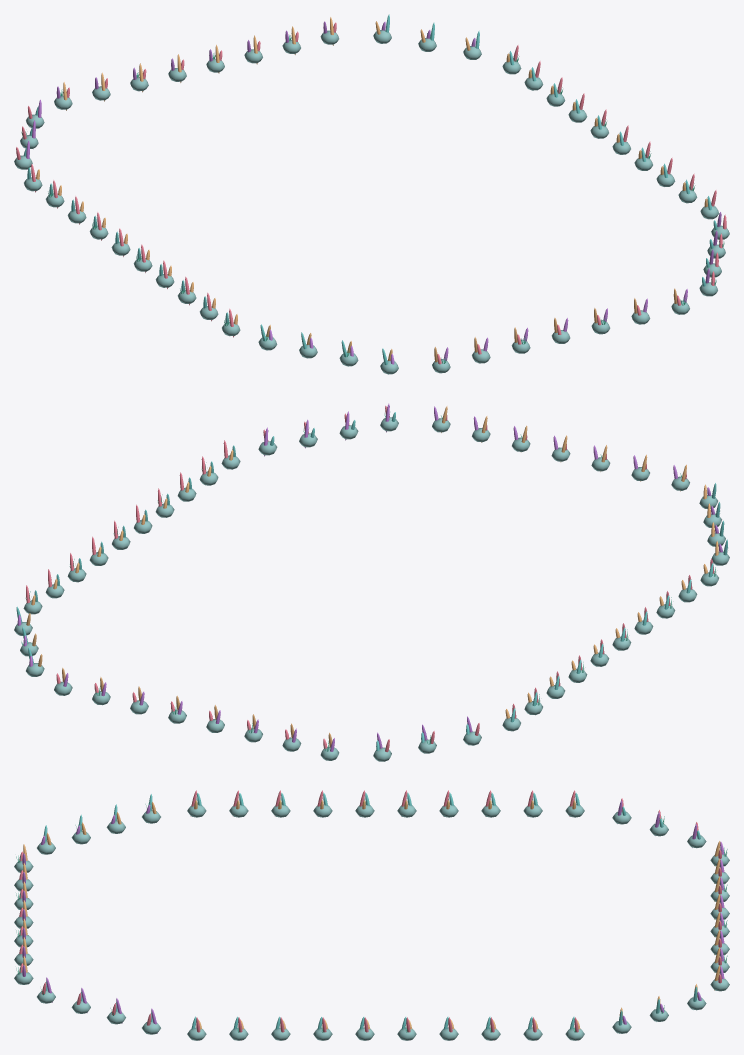
File: reef-27-DYNNqi3u.glb
3 renders of one model, top to bottom at view 1: azimuth 30°, elevation 25°; view 2: azimuth 150°, elevation 25°; view 3: azimuth 270°, elevation 25°, orthographic. The views are drawn at different scales.
Visible parts, largest first — view 1: ReefRock, Coral0, Coral2, Coral3, Coral1; view 2: ReefRock, Coral2, Coral0, Coral3, Coral1; view 3: ReefRock, Coral0, Coral2, Coral3, Coral1.
Boxes of the visible parts, <box> form: ReefRock: <box>14,30,729,374</box>; Coral0: <box>16,22,726,364</box>; Coral2: <box>36,17,707,362</box>; Coral3: <box>23,14,717,374</box>; Coral1: <box>26,21,721,364</box>; ReefRock: <box>14,417,729,761</box>; Coral2: <box>26,406,718,747</box>; Coral0: <box>26,405,714,752</box>; Coral3: <box>16,412,727,750</box>; Coral1: <box>17,403,722,751</box>; ReefRock: <box>14,804,729,1040</box>; Coral0: <box>19,790,721,1040</box>; Coral2: <box>23,800,720,1029</box>; Coral3: <box>43,792,700,1033</box>; Coral1: <box>22,800,724,1033</box>.
Size of the model in its own units: 39 by 2.06 by 51.1.
